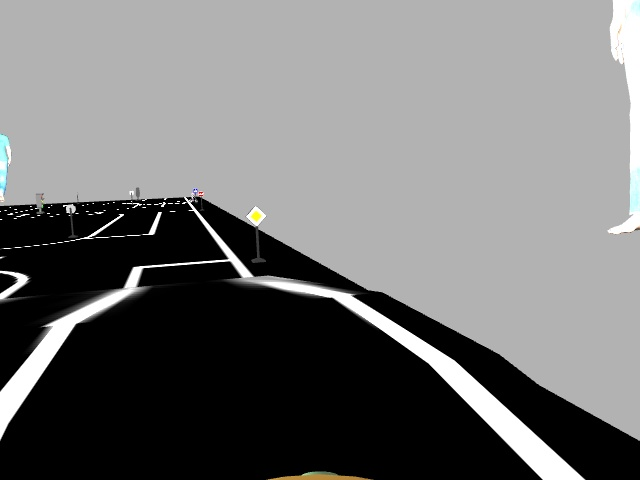Priority: (242, 203, 268, 228)
